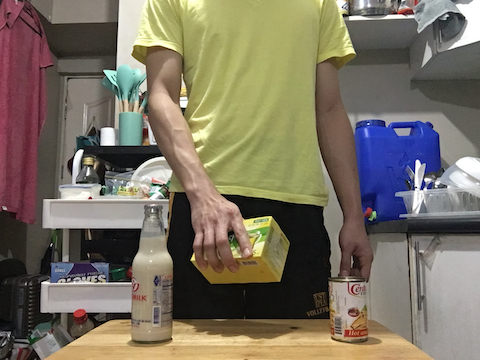bottle: (127, 200, 182, 349)
box: (188, 213, 293, 288)
can: (329, 273, 372, 347)
grab: (191, 199, 257, 273)
